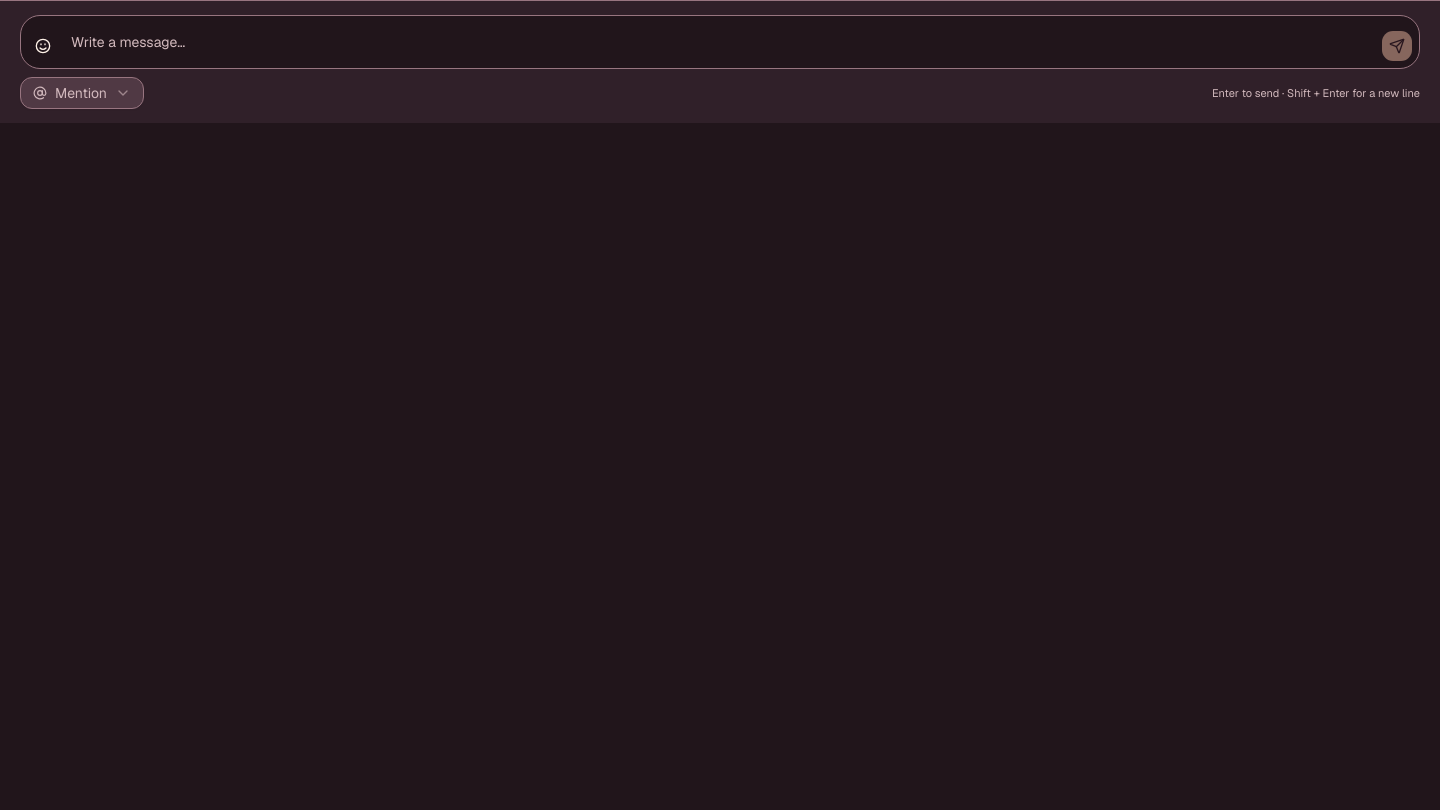
Scenario: MessageComposer › inserts a searched emoji at the caret
The image size is (1440, 810).
In the text box labelled "message": (720, 42) x1=65 y1=22 x2=1375 y2=62, type "Hello there"
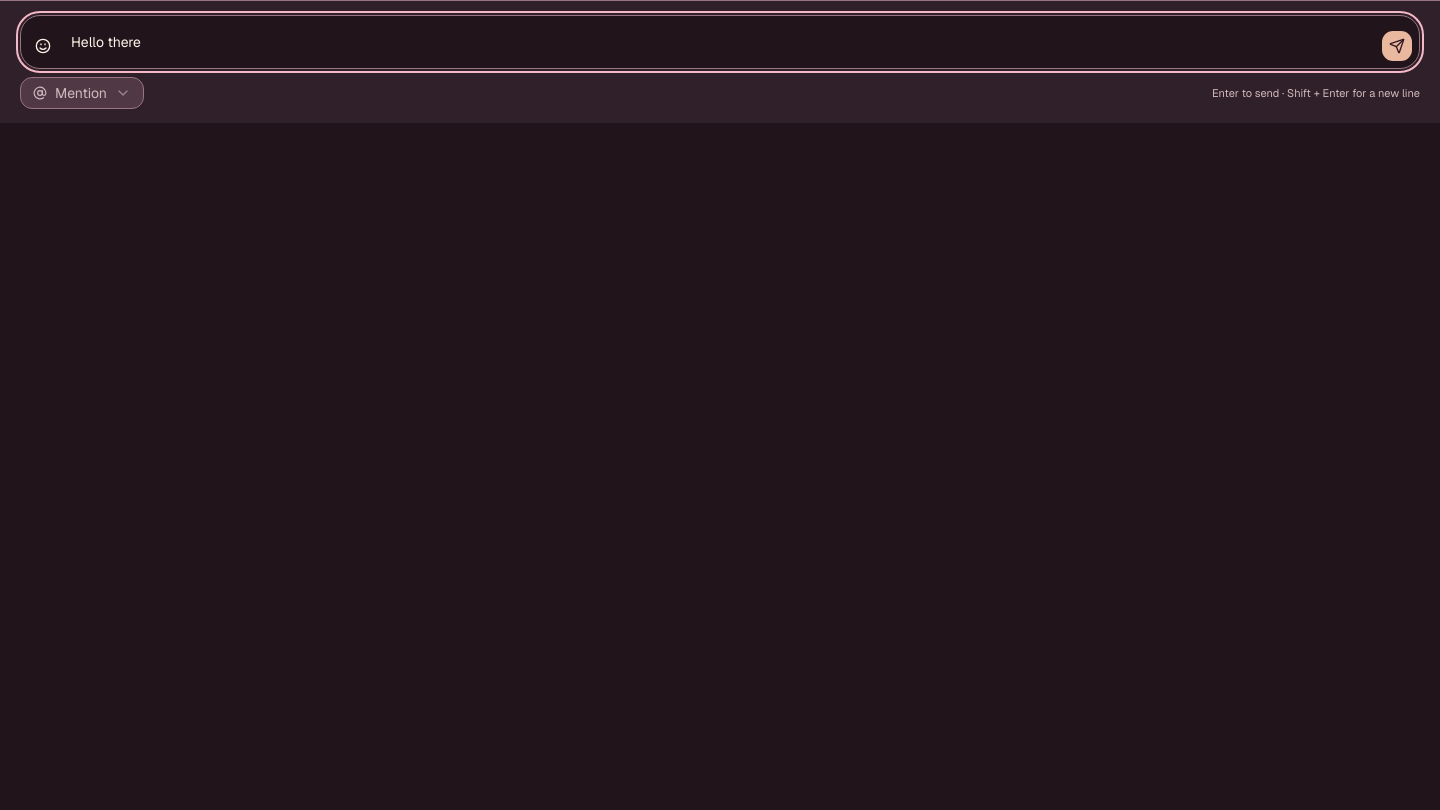
Click the button named "Choose emoji": (43, 46) x1=27 y1=30 x2=59 y2=62
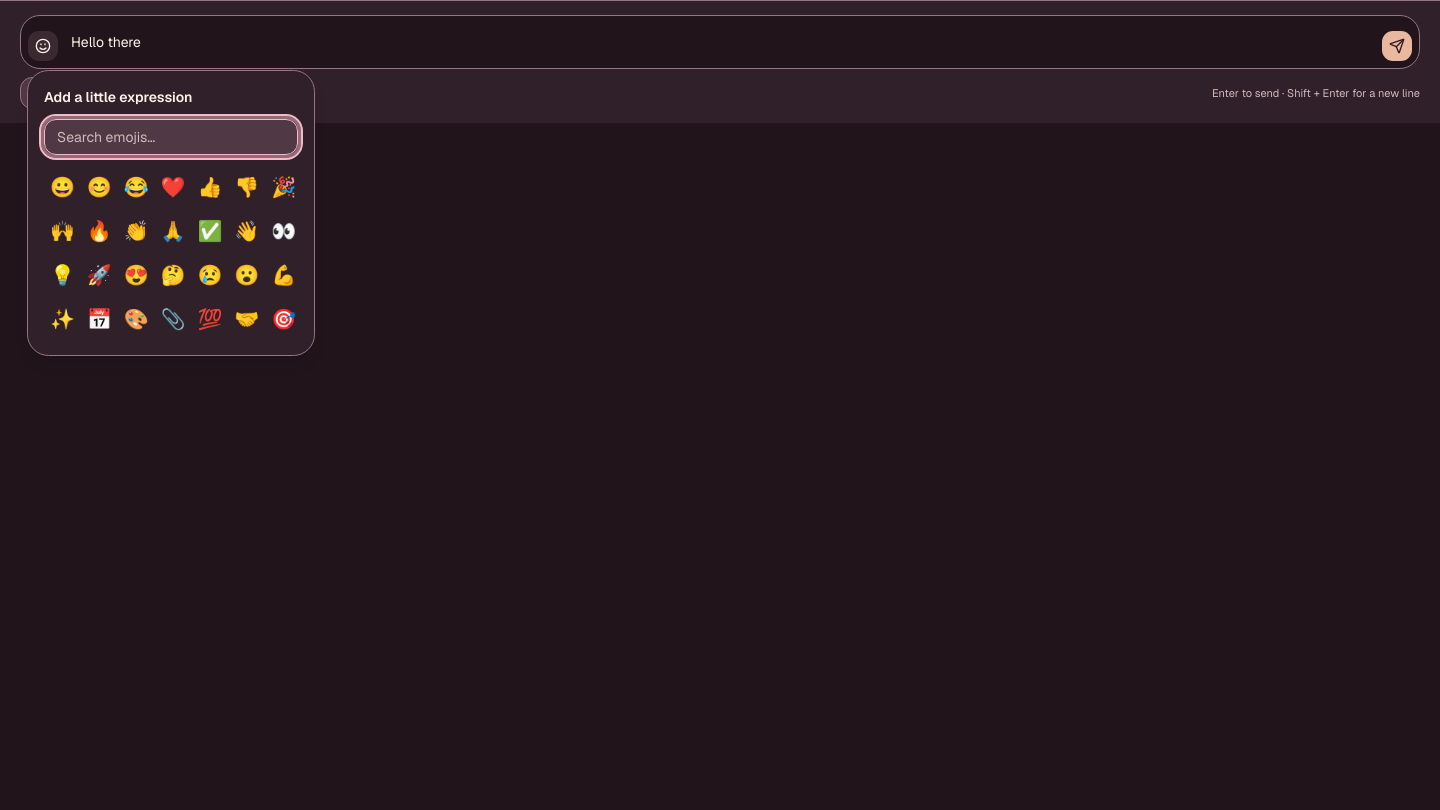
In the field labelled "Search emojis": (171, 137) x1=44 y1=119 x2=298 y2=155, type "wave"
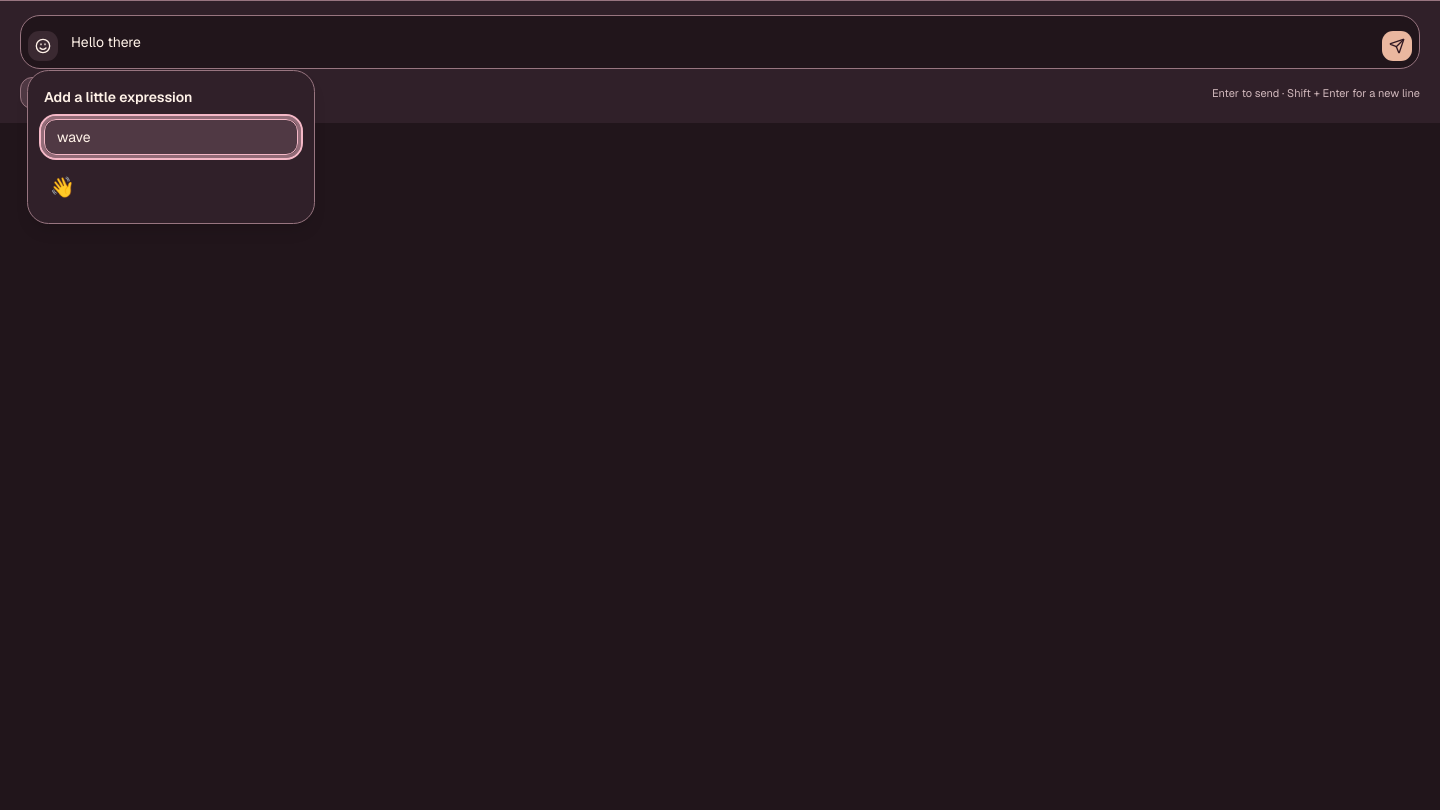
Click the button named "hello wave": (60, 187) x1=44 y1=167 x2=77 y2=207
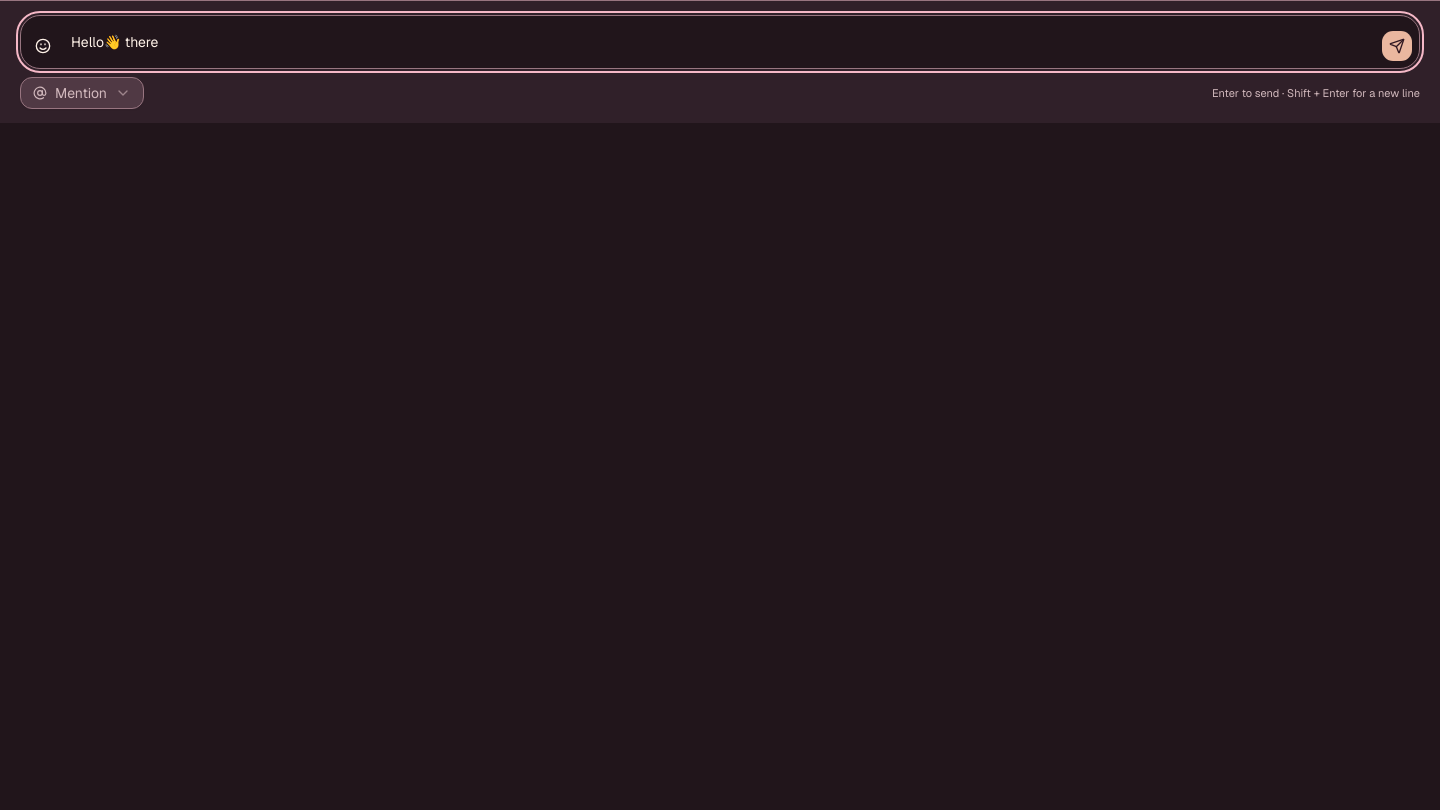
Result: the text box named "message" holds "Hello👋 there" at x1=65 y1=22 x2=1375 y2=62
